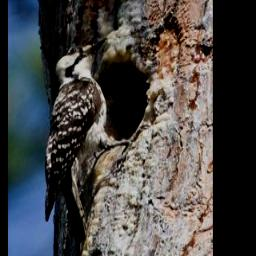Woodpecker: (37, 31, 130, 256)
